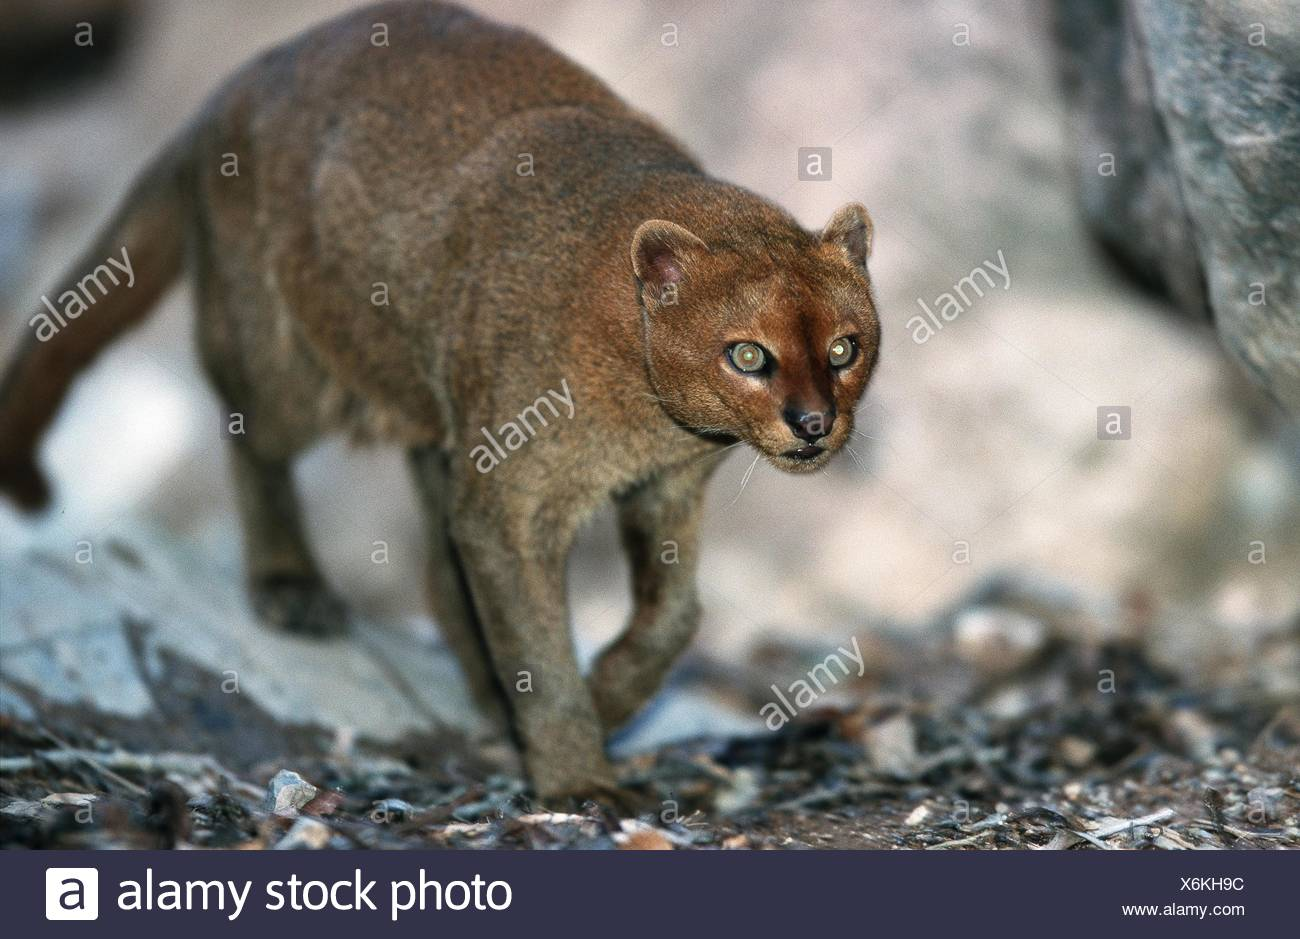Jaguarundi: (17, 11, 889, 790)
